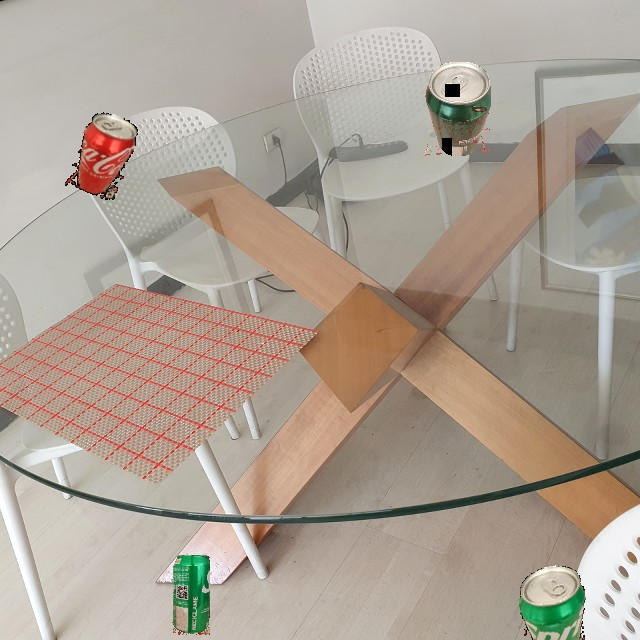coca cola: (64, 106, 143, 204)
schweppes: (425, 62, 491, 156)
sprite: (517, 562, 590, 640), (172, 555, 210, 635)
